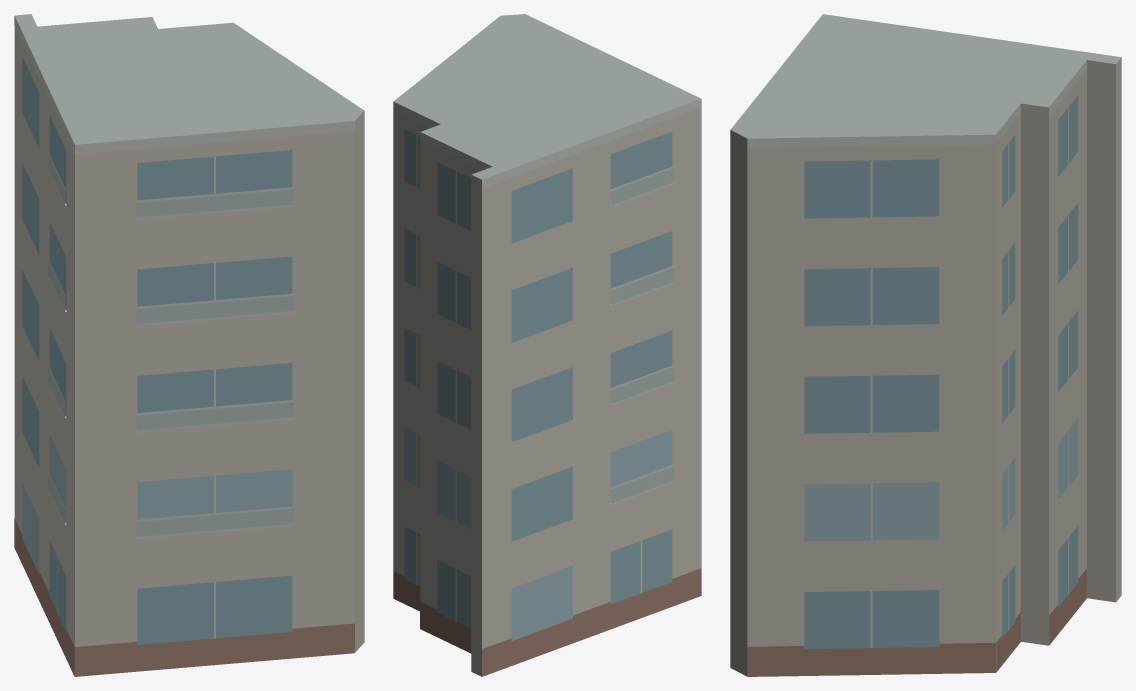
Rendered from survey-upis-32933614.glb.
3 views of the same model, side by side, from view 1: azimuth 30°, elevation 25°; view 2: azimuth 150°, elevation 25°; view 3: azimuth 270°, elevation 25° (orthographic). The views are drawn at different scales.
Visible parts, largest first — view 1: survey-upis-32933614.tmp; view 2: survey-upis-32933614.tmp; view 3: survey-upis-32933614.tmp.
Boxes of the visible parts, x1,y1,x2,y2 form: survey-upis-32933614.tmp: [14, 14, 364, 676]; survey-upis-32933614.tmp: [393, 14, 701, 676]; survey-upis-32933614.tmp: [730, 14, 1121, 676].
Size of the model in its own units: 6.71 by 13.5 by 8.9.
